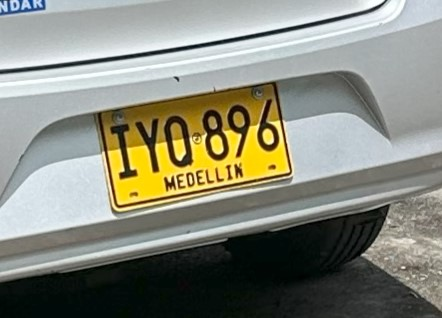number plate: (99, 84, 291, 210)
